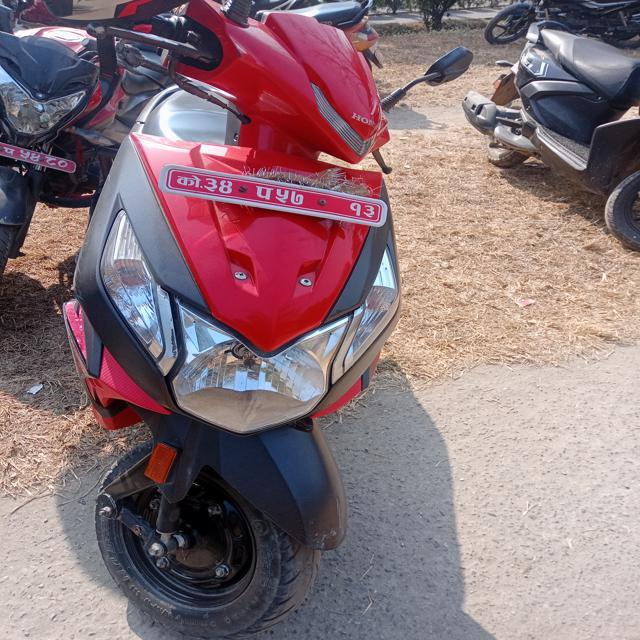license_plate: (165, 156, 394, 234)
